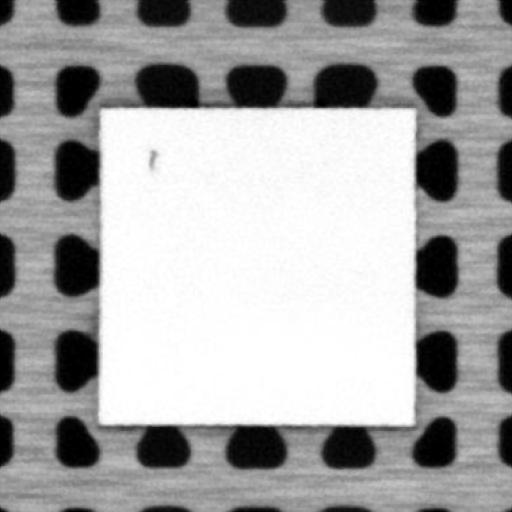DIE_INK: (145, 146, 157, 167)
